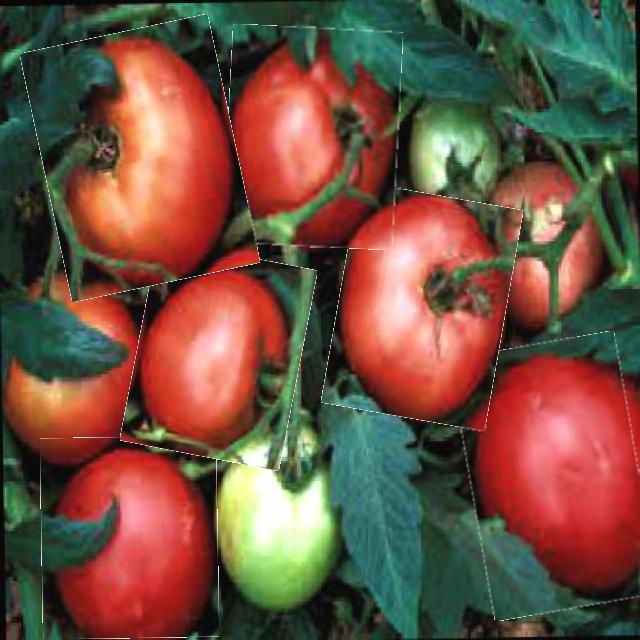tomato: (32, 23, 248, 294), (460, 337, 640, 615), (330, 189, 514, 425), (129, 247, 309, 465), (225, 26, 401, 248), (41, 436, 219, 639)
